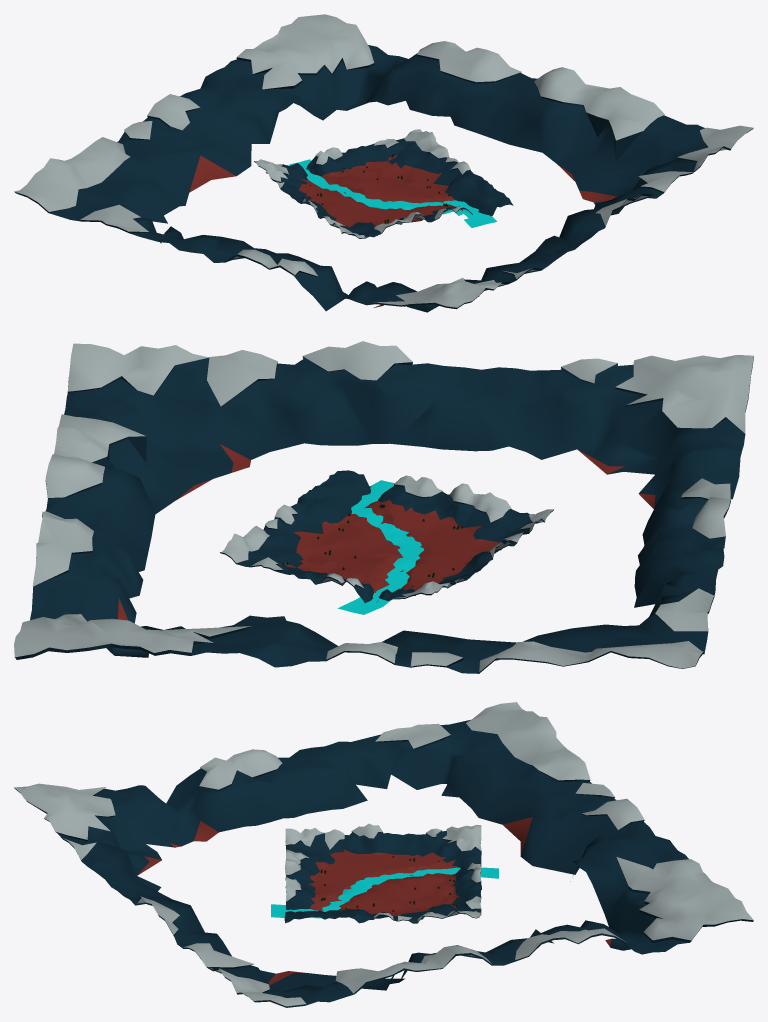
File: Enviroment_Clean.dae
3 views of the same model, one above another, from view 1: azimuth 30°, elevation 25°; view 2: azimuth 150°, elevation 25°; view 3: azimuth 270°, elevation 25° (orthographic). The views are drawn at different scales.
Parts seen in each view (by area): view 1: pPlane4, pPlane1, pPlane3; view 2: pPlane4, pPlane1, pPlane3; view 3: pPlane4, pPlane1, pPlane3.
Boxes of the visible parts, x1=… form: pPlane4: x1=14, y1=14, x2=753, y2=312; pPlane1: x1=254, y1=129, x2=513, y2=238; pPlane3: x1=289, y1=159, x2=497, y2=227; pPlane4: x1=14, y1=341, x2=753, y2=673; pPlane1: x1=220, y1=470, x2=553, y2=602; pPlane3: x1=337, y1=480, x2=423, y2=614; pPlane4: x1=14, y1=702, x2=753, y2=1007; pPlane1: x1=284, y1=823, x2=481, y2=923; pPlane3: x1=271, y1=867, x2=498, y2=918.
Bounding box in the file's own units: 1489 × 156 × 1515.
